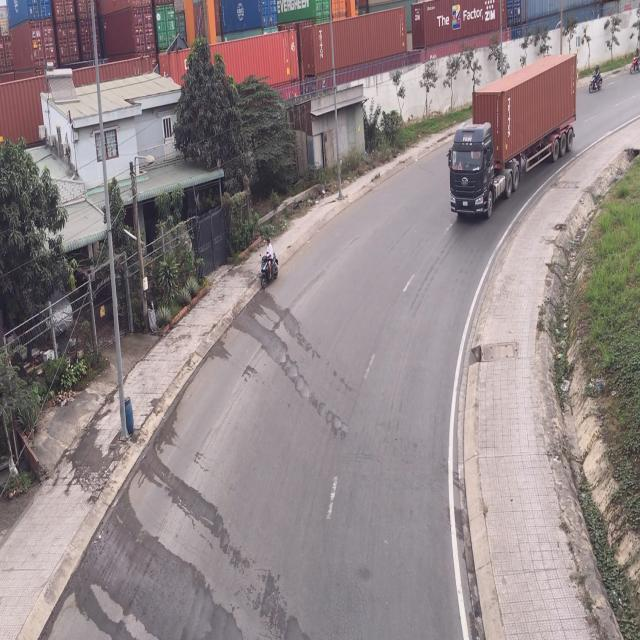motorbike: (261, 244, 280, 292), (590, 62, 603, 94), (631, 38, 640, 75)
truck: (444, 56, 576, 222)
